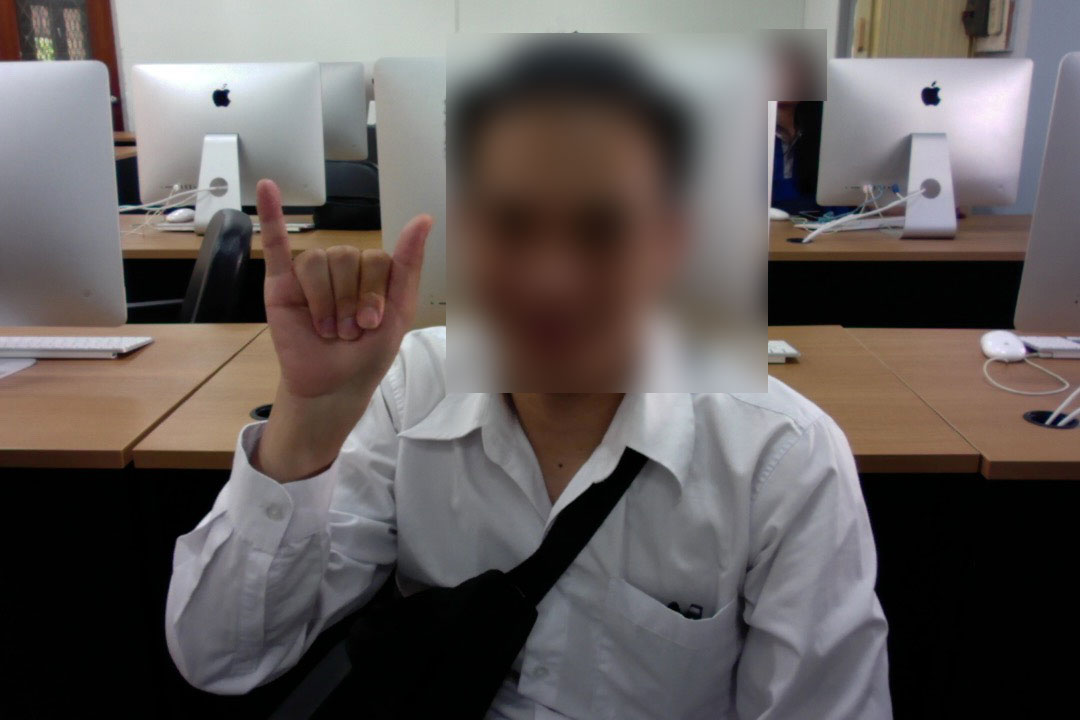yor: (253, 172, 440, 453)
